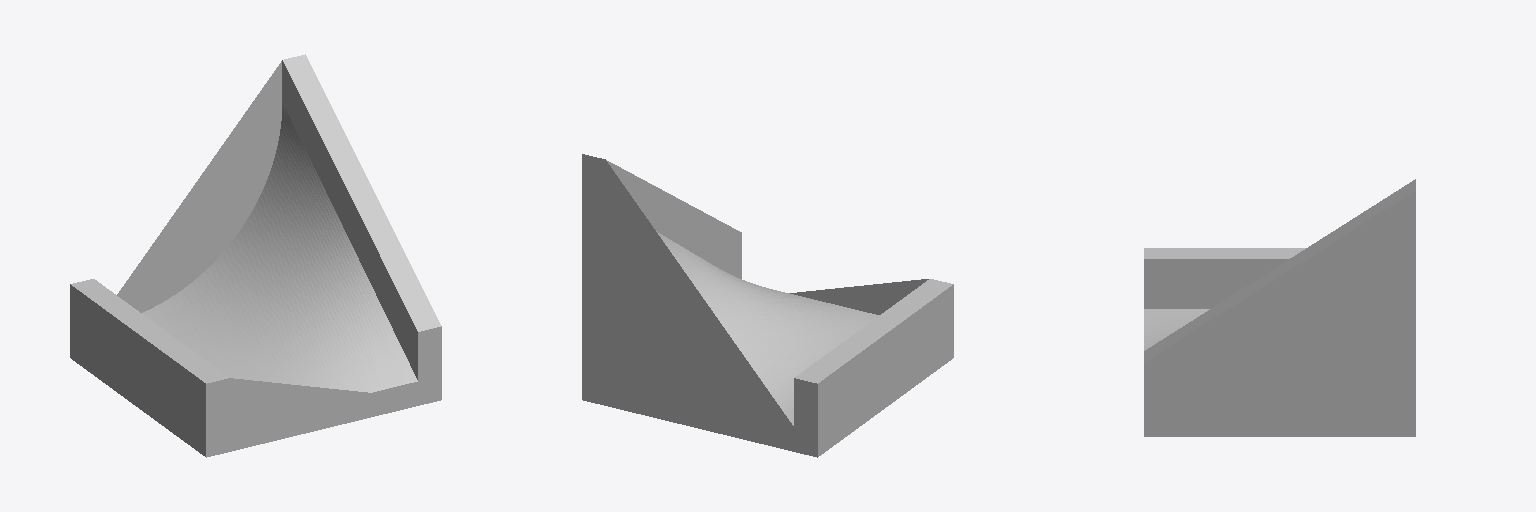
Rendered from BankedTransitionRight.obj.
3 views of the same model, side by side, from view 1: azimuth 30°, elevation 25°; view 2: azimuth 150°, elevation 25°; view 3: azimuth 270°, elevation 25° (orthographic).
Visible parts, largest first — view 1: BankedTransitionRight; view 2: BankedTransitionRight; view 3: BankedTransitionRight.
Boxes of the visible parts, x1=… form: BankedTransitionRight: x1=70, y1=54, x2=441, y2=457; BankedTransitionRight: x1=582, y1=154, x2=953, y2=457; BankedTransitionRight: x1=1144, y1=179, x2=1415, y2=436.
Bounding box in the file's own units: 2 × 2 × 2.